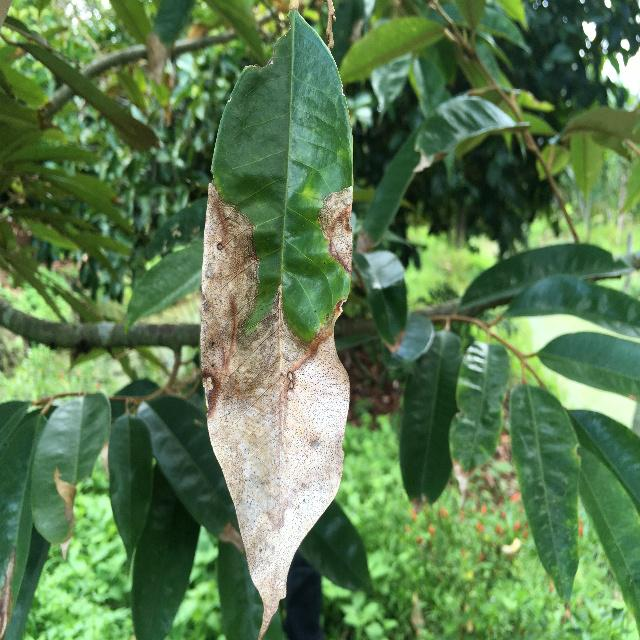Leaf Blight: (192, 0, 364, 639)
